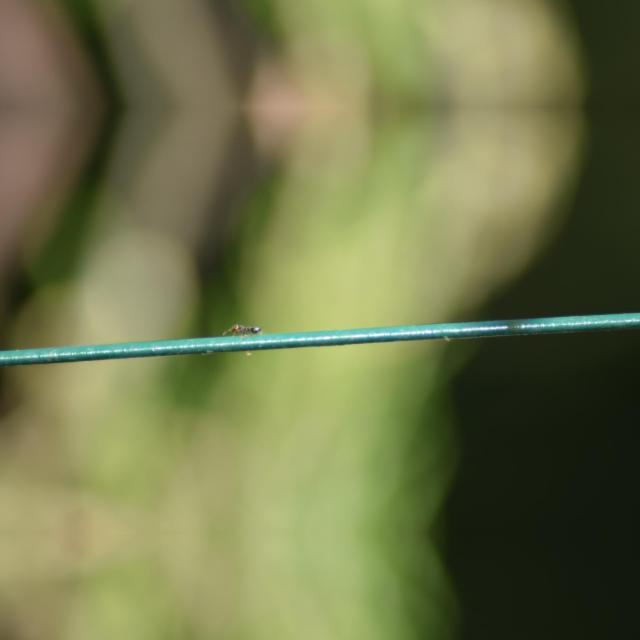Crematogaster: (225, 324, 263, 336)
